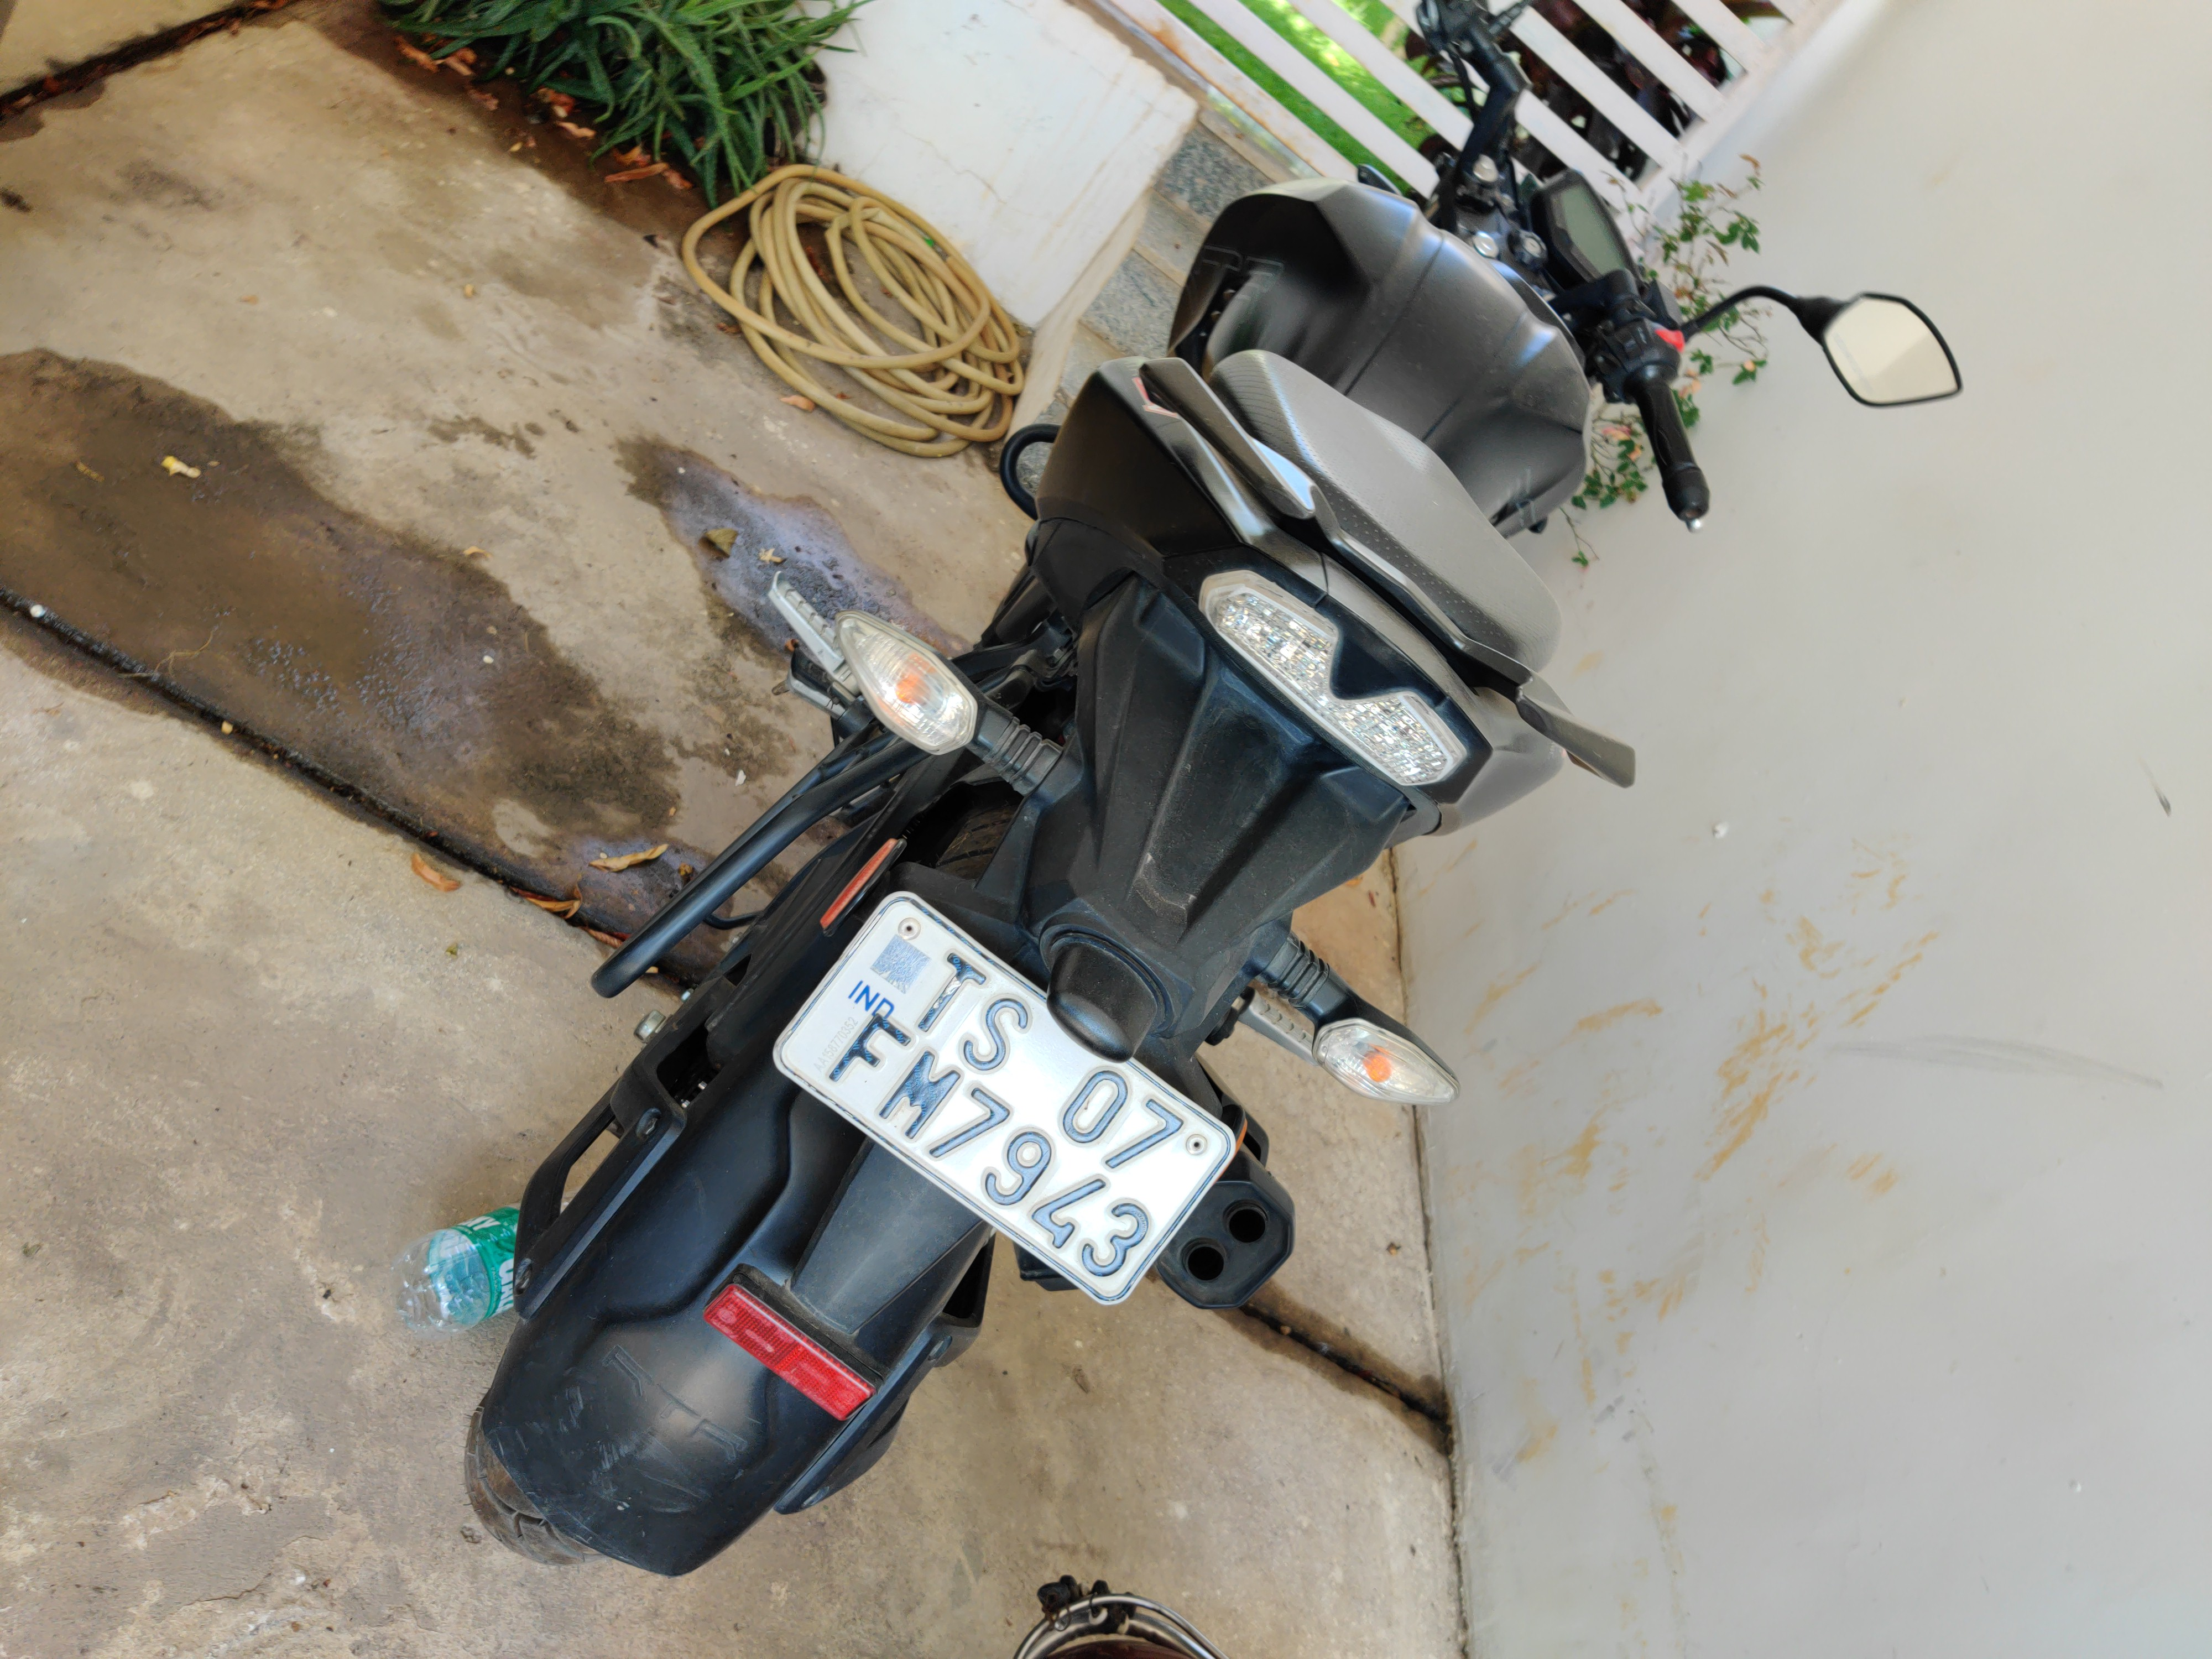plate: (760, 891, 1262, 1329)
